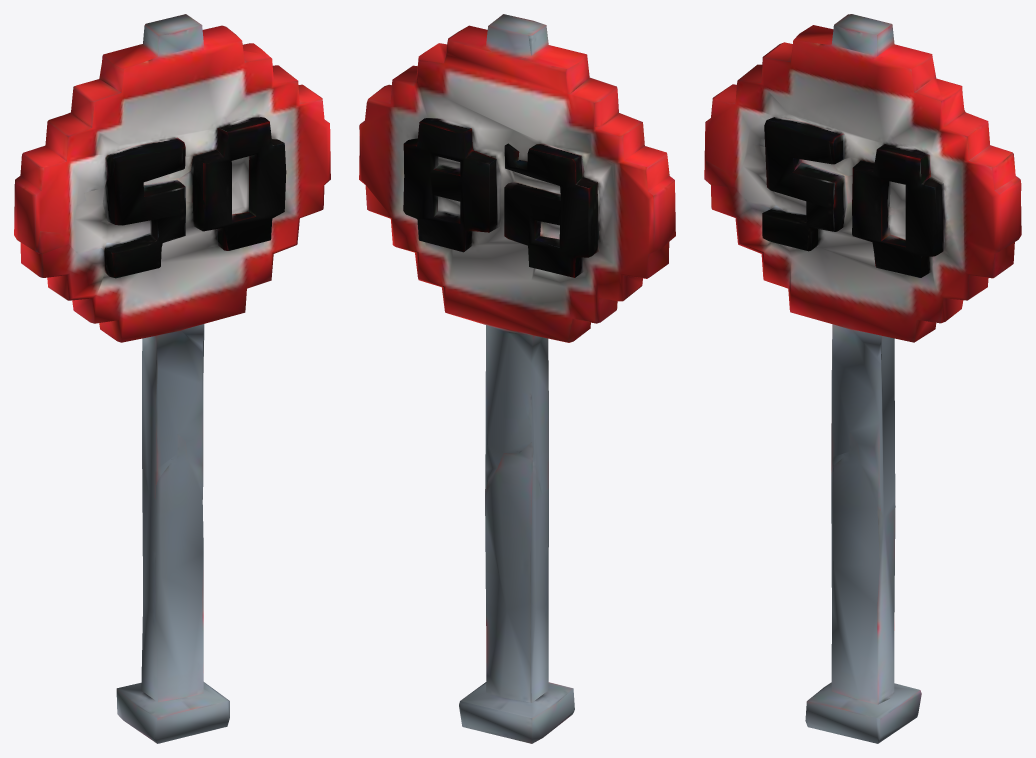
File: traffic-sign-speed-50.glb
The picture shows the model from 3 angles, left to right: view 1: azimuth 30°, elevation 25°; view 2: azimuth 150°, elevation 25°; view 3: azimuth 330°, elevation 25°; orthographic projection.
Parts seen in each view (by area): view 1: material; view 2: material; view 3: material.
Part boxes in pixels (x1,y1,x2,y2): material: (14, 14, 330, 743); material: (359, 14, 675, 743); material: (704, 14, 1021, 743).
Size of the model in its own units: 0.5324 by 1.19 by 0.1342.
Materials: 1 (1 with a texture image).
